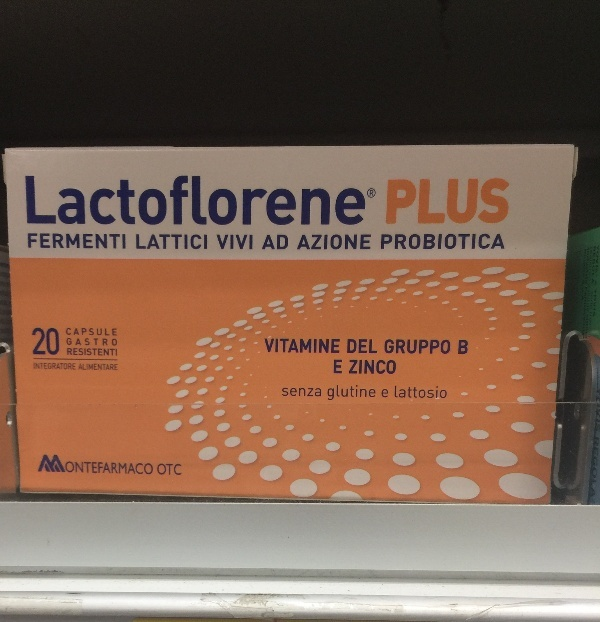text: (582, 241, 592, 342), (497, 176, 513, 230), (33, 172, 48, 227), (49, 172, 64, 227), (65, 172, 80, 227), (81, 172, 96, 227), (97, 172, 112, 227), (113, 172, 128, 227), (129, 172, 144, 227), (145, 172, 160, 227), (161, 172, 176, 227), (177, 172, 192, 227), (193, 172, 208, 227), (209, 172, 224, 227), (225, 172, 240, 227), (241, 172, 256, 227), (257, 172, 272, 227), (273, 172, 288, 227), (289, 172, 304, 227), (305, 172, 320, 227), (321, 172, 336, 227), (337, 172, 352, 227), (401, 176, 416, 230), (417, 176, 432, 230), (433, 176, 448, 230), (449, 176, 464, 230), (465, 176, 480, 230), (481, 176, 496, 230), (353, 172, 367, 227), (386, 176, 400, 230), (33, 324, 48, 359), (593, 241, 598, 342), (24, 172, 32, 227), (49, 324, 61, 359), (594, 437, 600, 500), (273, 336, 288, 356), (289, 336, 304, 356), (305, 336, 320, 356), (321, 336, 336, 356), (385, 337, 400, 357), (401, 337, 416, 357), (417, 337, 432, 357), (433, 337, 448, 357), (193, 233, 209, 251), (385, 232, 400, 251), (401, 232, 416, 251), (417, 232, 432, 251), (433, 232, 448, 251), (449, 232, 464, 251), (465, 232, 480, 251), (481, 232, 496, 251), (353, 337, 368, 356), (273, 234, 289, 251), (33, 233, 48, 251), (49, 233, 64, 251), (65, 233, 80, 251), (81, 233, 96, 251), (97, 233, 112, 251), (145, 233, 160, 251), (161, 233, 176, 251), (177, 233, 192, 251), (305, 233, 320, 251), (321, 233, 336, 251), (337, 233, 352, 251), (353, 233, 368, 251), (337, 384, 352, 402), (353, 384, 368, 402), (353, 359, 368, 377), (369, 359, 384, 377), (225, 234, 240, 251), (401, 384, 416, 401), (417, 384, 432, 401), (433, 384, 448, 401), (113, 233, 127, 251), (65, 460, 80, 476), (81, 460, 96, 476), (97, 460, 112, 476), (113, 460, 128, 476), (129, 460, 144, 476), (385, 359, 398, 377), (161, 462, 176, 477), (241, 234, 254, 251), (369, 337, 379, 356), (289, 387, 304, 399), (305, 387, 320, 399), (263, 336, 272, 356), (497, 232, 506, 251), (81, 327, 96, 338), (97, 327, 112, 338), (81, 338, 96, 349), (97, 338, 112, 349), (369, 188, 384, 199), (66, 327, 80, 338), (66, 338, 80, 349), (81, 347, 96, 357), (97, 347, 112, 357), (33, 362, 48, 372), (49, 362, 64, 372), (136, 233, 144, 251), (145, 460, 154, 476), (328, 384, 336, 402), (369, 384, 377, 402), (216, 234, 224, 251), (67, 347, 80, 357), (81, 364, 96, 372), (97, 364, 112, 372), (458, 338, 464, 357), (65, 362, 76, 372), (337, 359, 343, 376), (347, 337, 352, 356), (27, 233, 32, 251), (177, 462, 183, 477), (267, 234, 272, 251), (395, 384, 400, 401), (337, 336, 341, 356), (449, 337, 453, 357), (465, 338, 469, 357), (30, 324, 32, 359), (113, 327, 119, 338), (113, 338, 119, 349), (283, 387, 288, 399), (385, 388, 390, 400), (381, 232, 384, 251), (369, 233, 372, 251), (349, 359, 352, 377), (333, 359, 336, 376), (113, 347, 118, 357), (157, 462, 160, 477), (113, 364, 118, 372), (382, 388, 384, 400), (303, 233, 304, 251), (321, 387, 322, 399)
